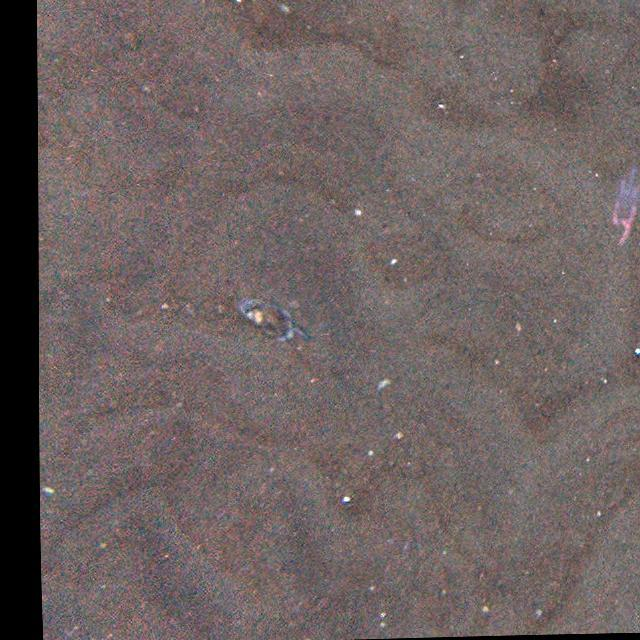whelk: (247, 302, 288, 339)
